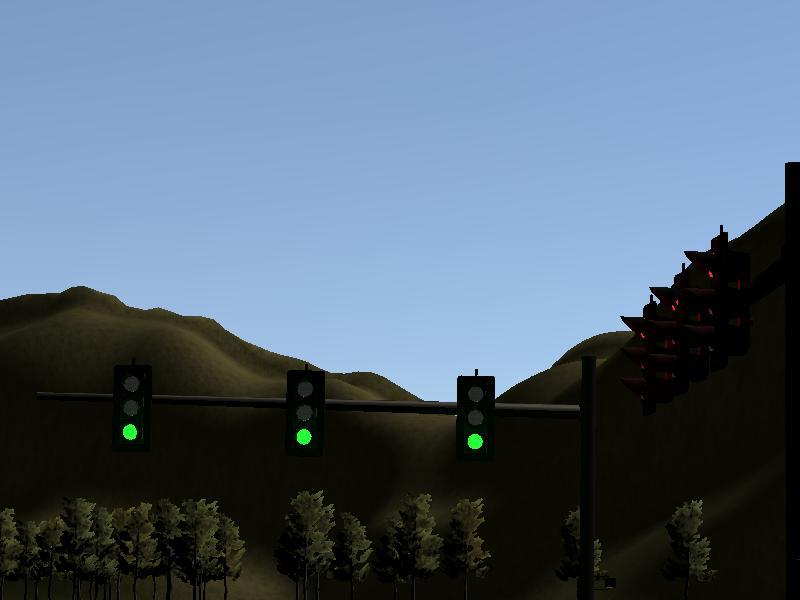Green: (458, 377, 495, 474), (288, 368, 324, 462), (114, 369, 150, 458)
